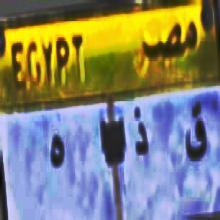5: (45, 131, 72, 172)
qaaf: (182, 97, 210, 165)
zaal: (128, 101, 151, 157)
